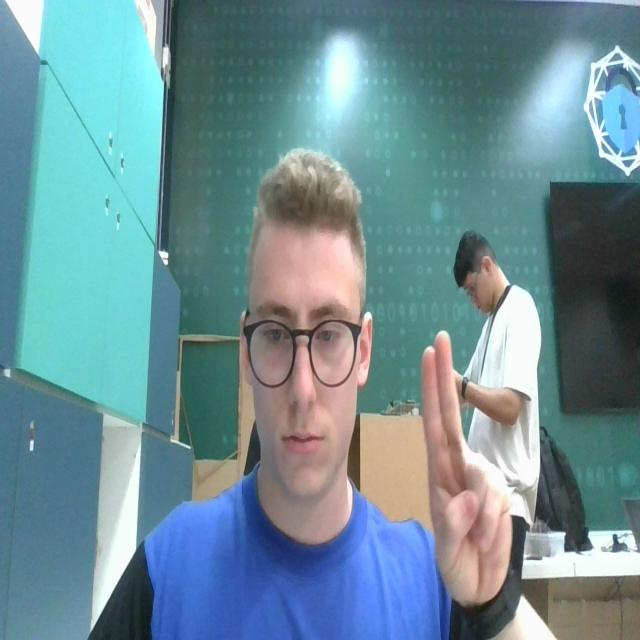U: (417, 330, 515, 604)
